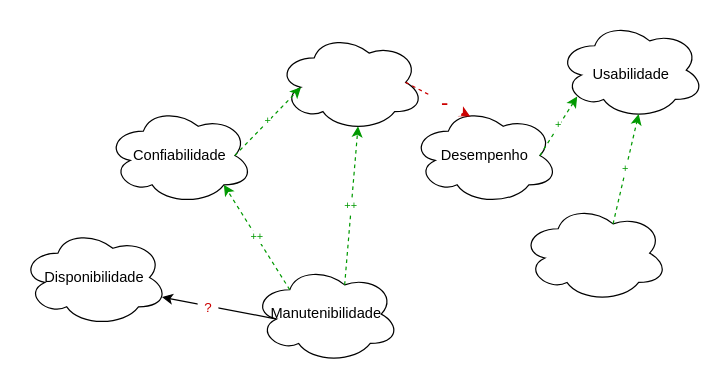
Image size: 726x384. Some labels were removed from this diagram. The centre of each missing label's shape, as x and y in pixels:
Portabilidade: point (594, 252)
Segurança: point (350, 81)
